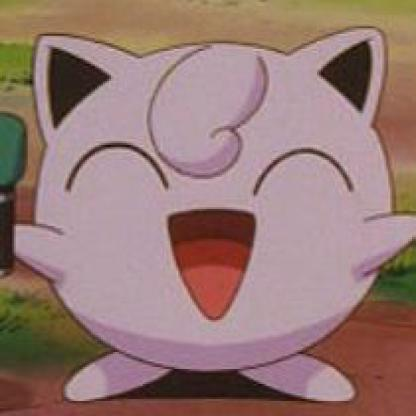Jigglypuff: (8, 18, 416, 408)
